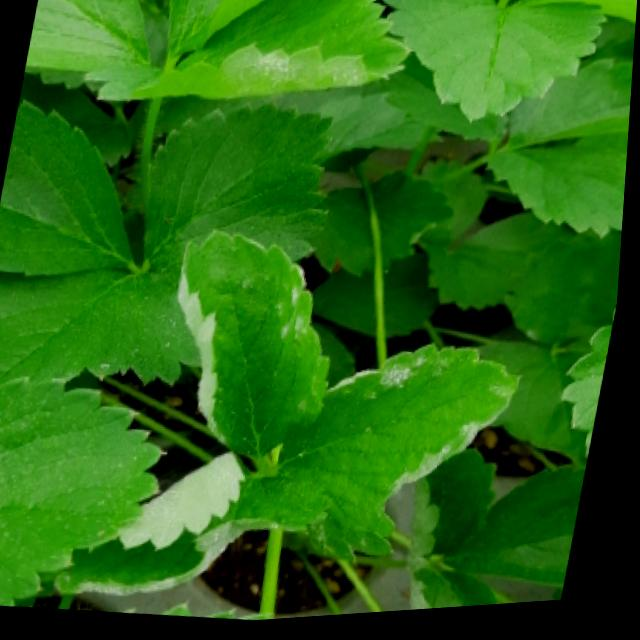Powdery Mildew Leaf: (256, 349, 526, 571), (180, 230, 335, 467), (83, 0, 410, 103), (60, 455, 275, 600), (564, 311, 621, 469), (411, 569, 511, 616)
